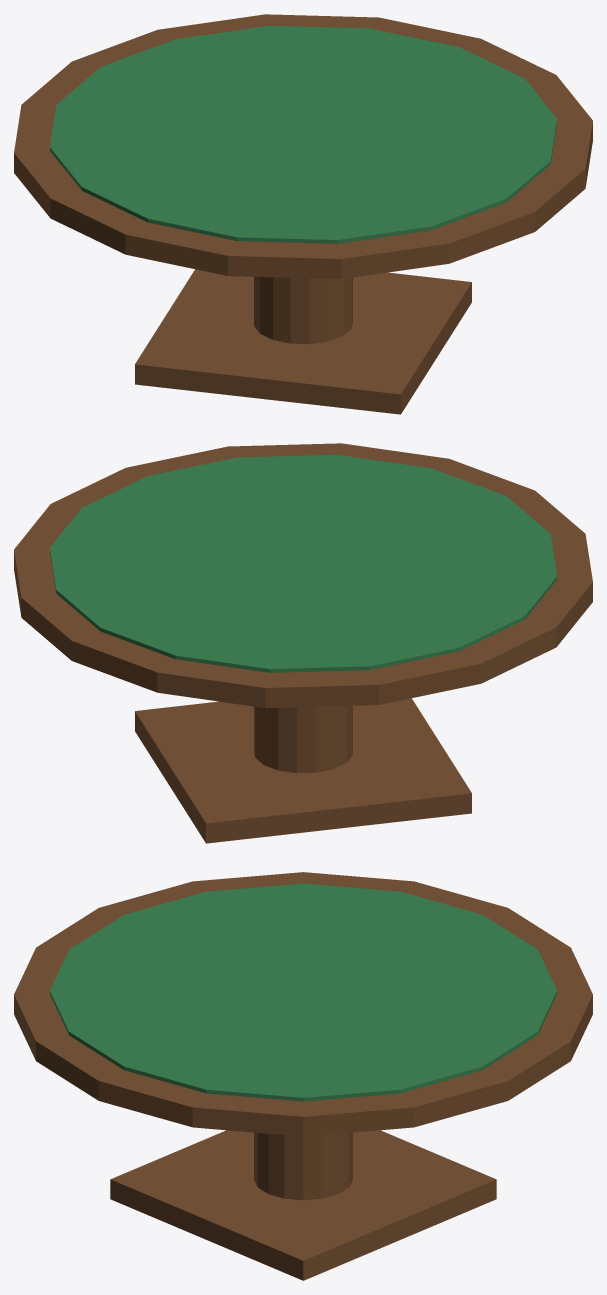
Rendered from saloon_poker_table.glb.
3 views of the same model, one above another, from view 1: azimuth 30°, elevation 25°; view 2: azimuth 150°, elevation 25°; view 3: azimuth 270°, elevation 25° (orthographic).
Visible parts, largest first — view 1: Saloon_Poker_Table; view 2: Saloon_Poker_Table; view 3: Saloon_Poker_Table.
Boxes of the visible parts, box(x1,y1,x2,y2) form: Saloon_Poker_Table: box(14, 14, 592, 414); Saloon_Poker_Table: box(14, 443, 592, 843); Saloon_Poker_Table: box(14, 872, 592, 1280).
Bounding box in the file's own units: 2.1 × 0.835 × 2.1.
